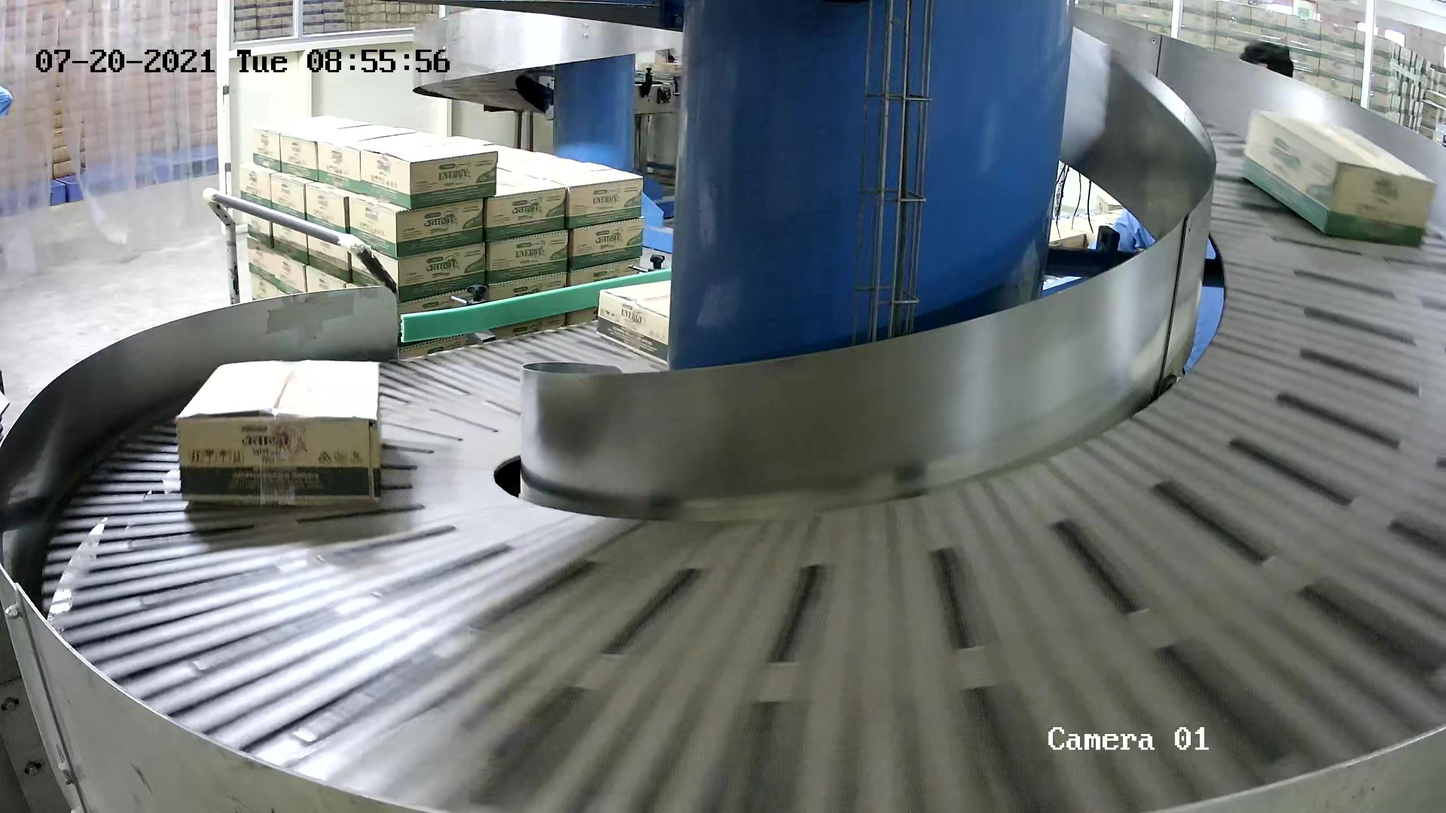Box: (176, 359, 384, 512), (1236, 109, 1437, 250), (597, 259, 763, 370)
